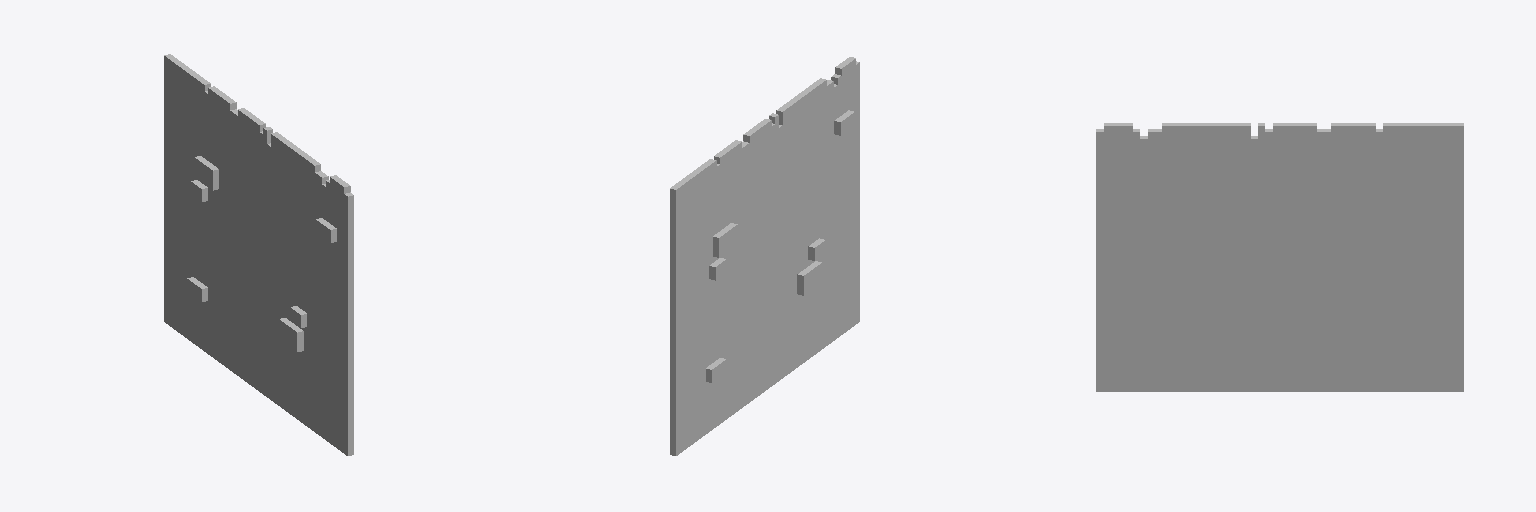
The model's file is Wall_01.obj.
3 renders of one model, left to right at view 1: azimuth 30°, elevation 25°; view 2: azimuth 150°, elevation 25°; view 3: azimuth 270°, elevation 25°, orthographic.
Parts seen in each view (by area): view 1: Wall_01; view 2: Wall_01; view 3: Wall_01.
Part boxes in pixels (x1,y1,x2,y2): Wall_01: (164, 54, 353, 455); Wall_01: (670, 57, 859, 455); Wall_01: (1096, 123, 1463, 391).
Size of the model in its own units: 0.2 by 4 by 5.